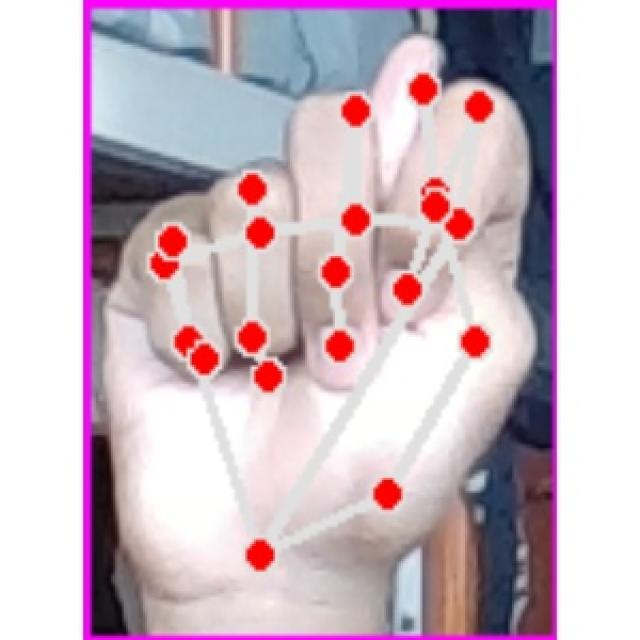T: (104, 29, 539, 588)
